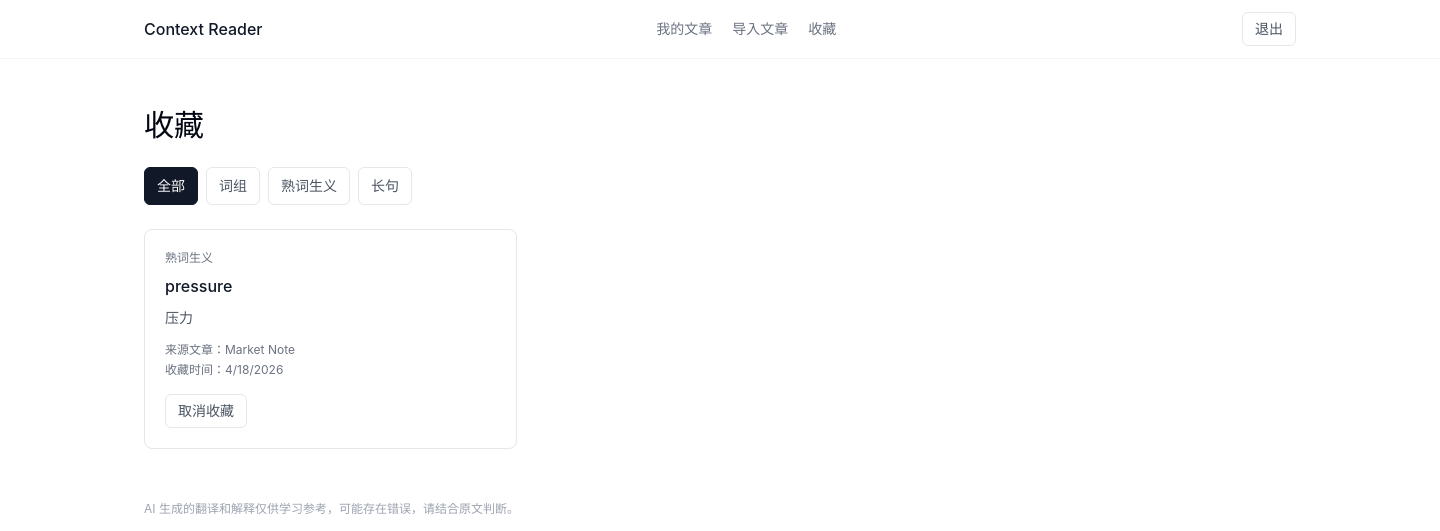
FavoritesPage › deletes a favorite from the page
Expected: the heading "pressure" is shown, [165,276,232,296]
Click the button "取消收藏": point(206, 411) [165,394,247,428]
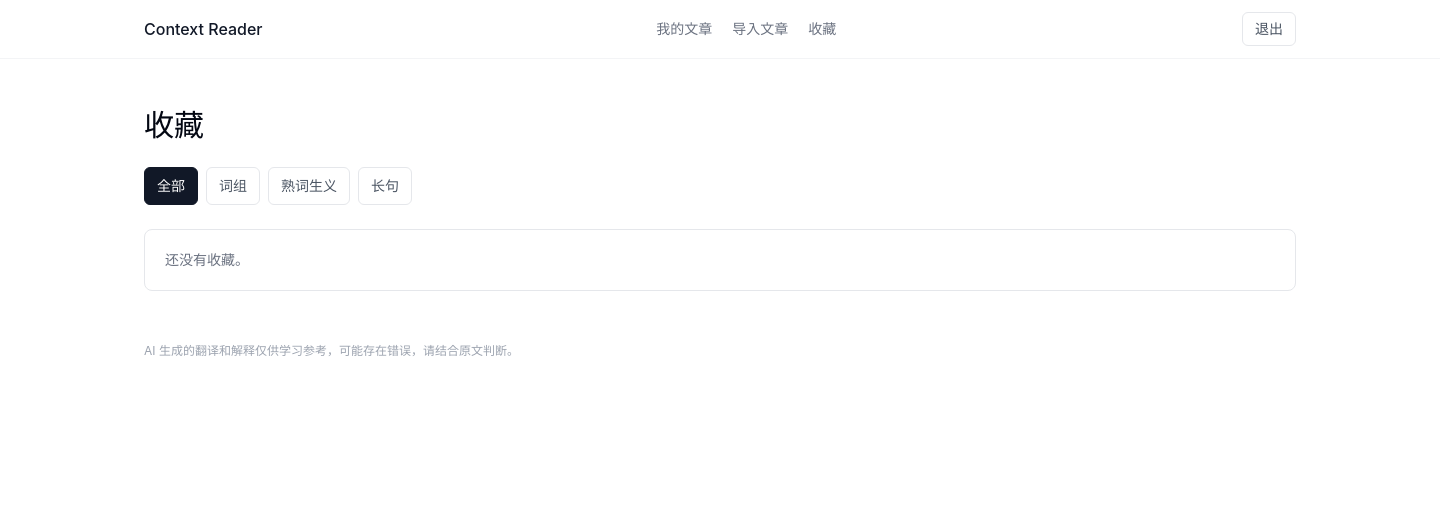
Expected: the heading "pressure" is gone
